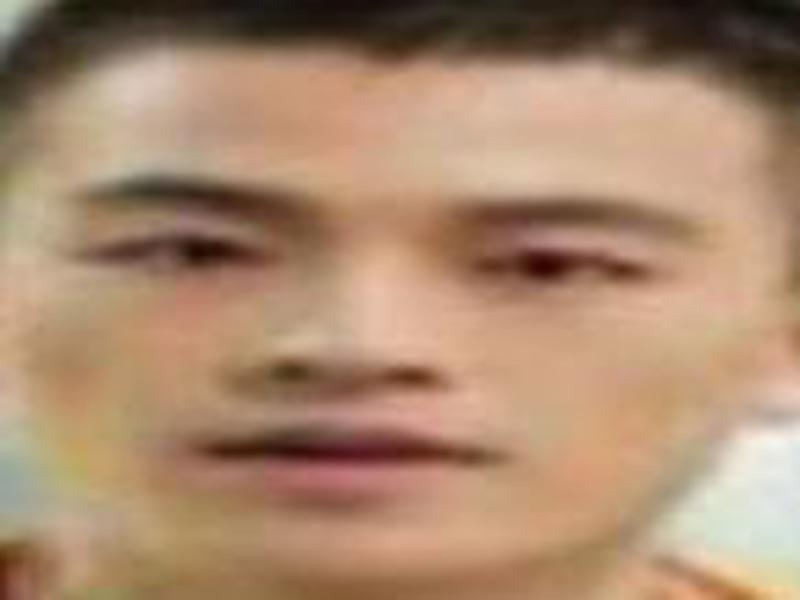without_mask: (10, 57, 774, 580)
